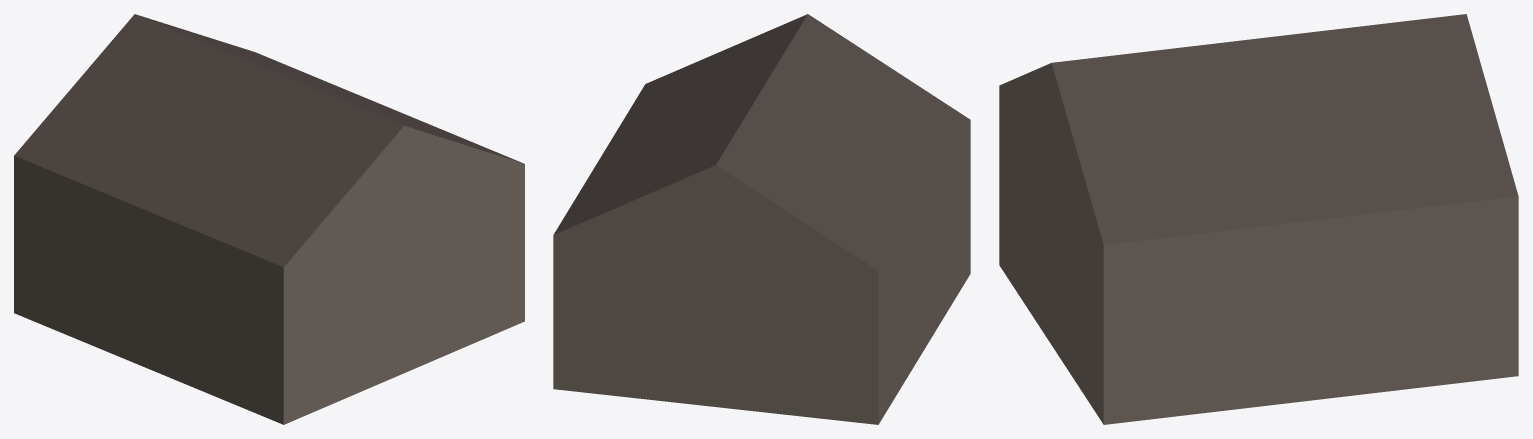
The picture shows the model from 3 angles, left to right: view 1: azimuth 30°, elevation 25°; view 2: azimuth 150°, elevation 25°; view 3: azimuth 270°, elevation 25°; orthographic projection. The views are drawn at different scales.
Parts seen in each view (by area): view 1: HP-w1198843254; view 2: HP-w1198843254; view 3: HP-w1198843254.
Boxes of the visible parts, x1,y1,x2,y2 form: HP-w1198843254: (14,14,524,424); HP-w1198843254: (553,14,970,424); HP-w1198843254: (999,14,1518,424).
Bounding box in the file's own units: 14.93 × 9.42 × 15.71.
